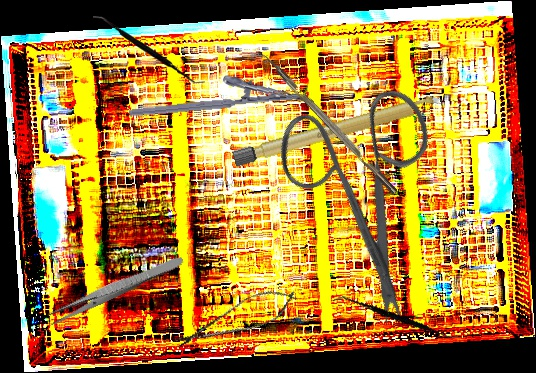Chopper: (250, 45, 398, 201)
Dressing Forceps: (44, 251, 186, 328)
Iris Scissors: (227, 48, 518, 336)
Micro Scissor: (171, 280, 302, 359)
Needle Holder: (126, 68, 308, 118)
Scalpel Handle: (231, 91, 445, 168)
Spatula Surgical: (332, 273, 460, 364), (91, 15, 207, 83)
